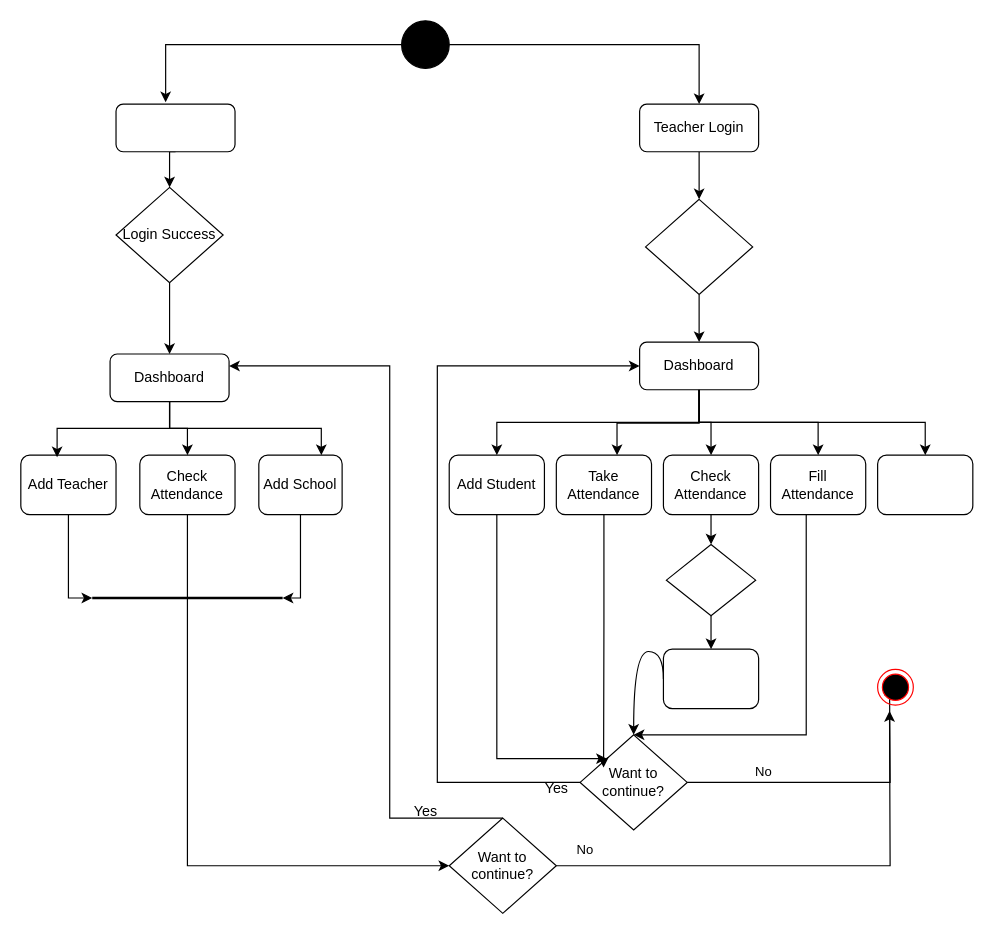
Image size: 994x934. Some labels were removed from this diagram. Here are the shapes that lost their labels. From the top down, the centre of each, then its label:
At point 175,127: "Admin Login".
At point 698,246: ":Login Success".
At point 924,484: "Download Attendance".
At point 710,579: "Find School".
At point 710,678: "Display all schools".
